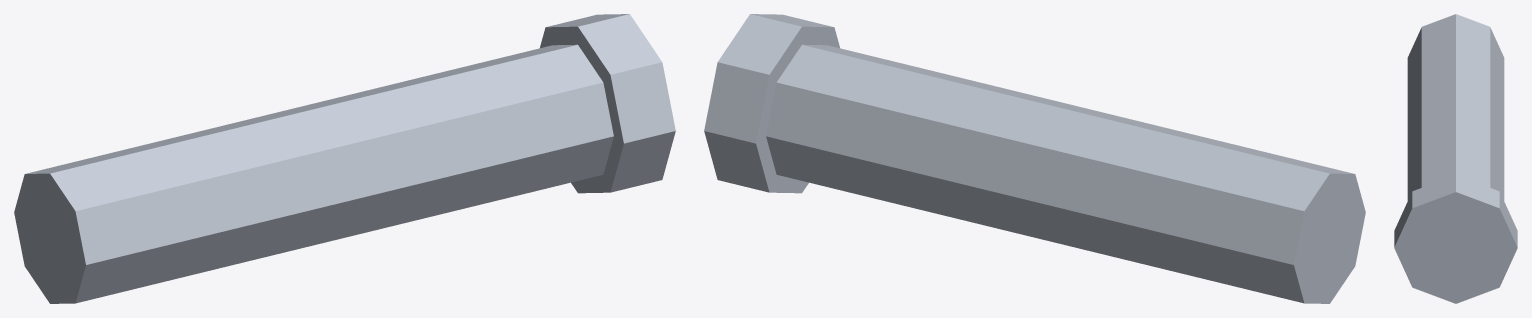
File: Basura_Metal_Tubo.fbx
3 views of the same model, side by side, from view 1: azimuth 30°, elevation 25°; view 2: azimuth 150°, elevation 25°; view 3: azimuth 270°, elevation 25° (orthographic). The views are drawn at different scales.
Parts seen in each view (by area): view 1: Basura_Metal_Tubo; view 2: Basura_Metal_Tubo; view 3: Basura_Metal_Tubo.
Boxes of the visible parts, left/top/right/bottom form: Basura_Metal_Tubo: left=14, top=14, right=675, bottom=303; Basura_Metal_Tubo: left=704, top=14, right=1365, bottom=303; Basura_Metal_Tubo: left=1394, top=14, right=1517, bottom=303.
Size of the model in its own units: 1.68 by 0.46 by 0.46.
Materials: 1 (1 with a texture image).
